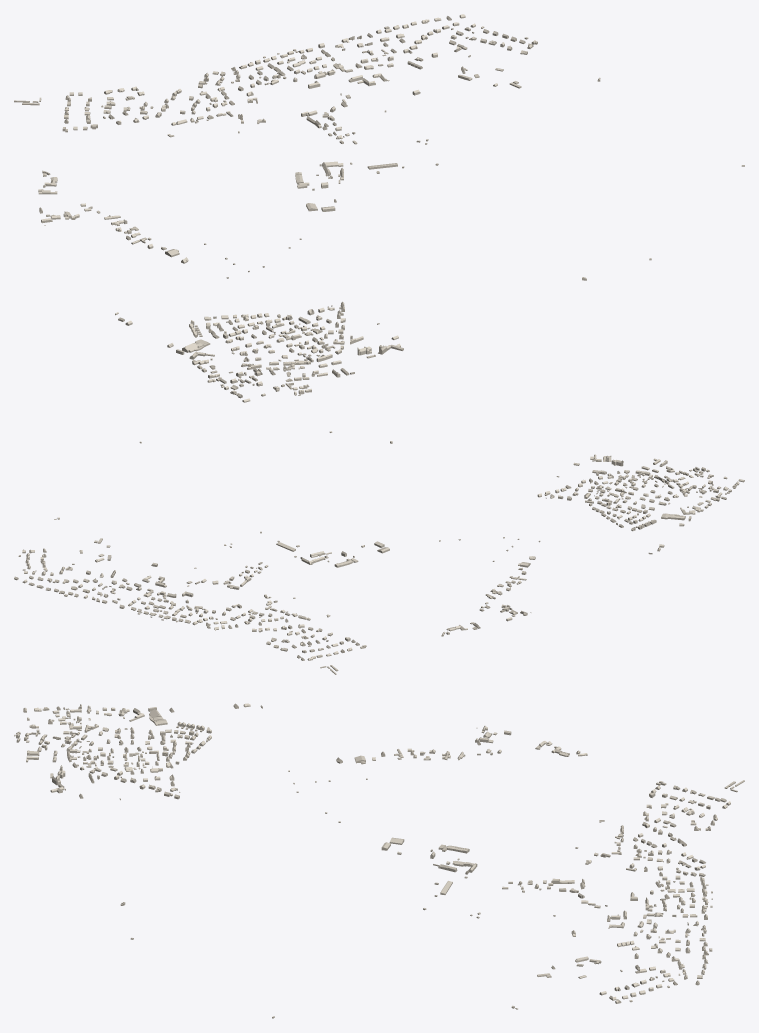
3 views of the same model, one above another, from view 1: azimuth 30°, elevation 25°; view 2: azimuth 150°, elevation 25°; view 3: azimuth 270°, elevation 25° (orthographic). The views are drawn at different scales.
Bounding box in the file's own units: 1741 × 50.62 × 1776.
